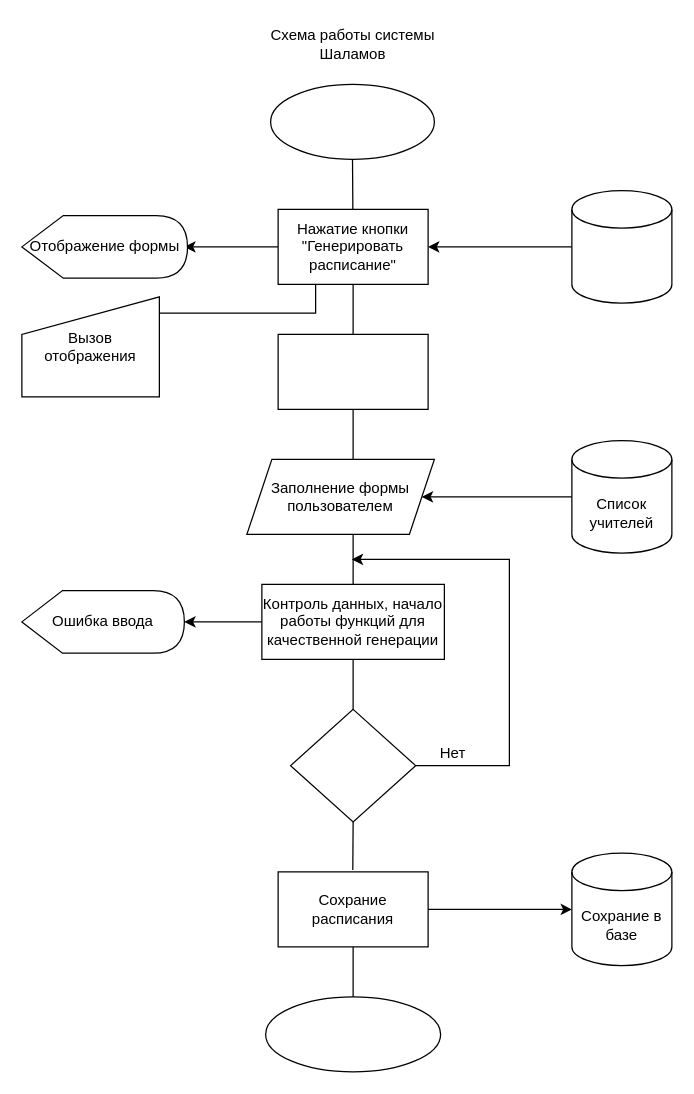
Image size: 694x1094. Some labels were removed from this diagram. The box of each missing label's shape, as (x1, y1, x2, y2) in pixels:
Данные заполнены верно?: (289, 708, 416, 822)
Данные отображения: (571, 189, 672, 303)
Конец: (264, 996, 441, 1072)
Начало: Пользователь в системе: (269, 83, 434, 159)
Форма генерации расписания: (277, 333, 428, 409)
